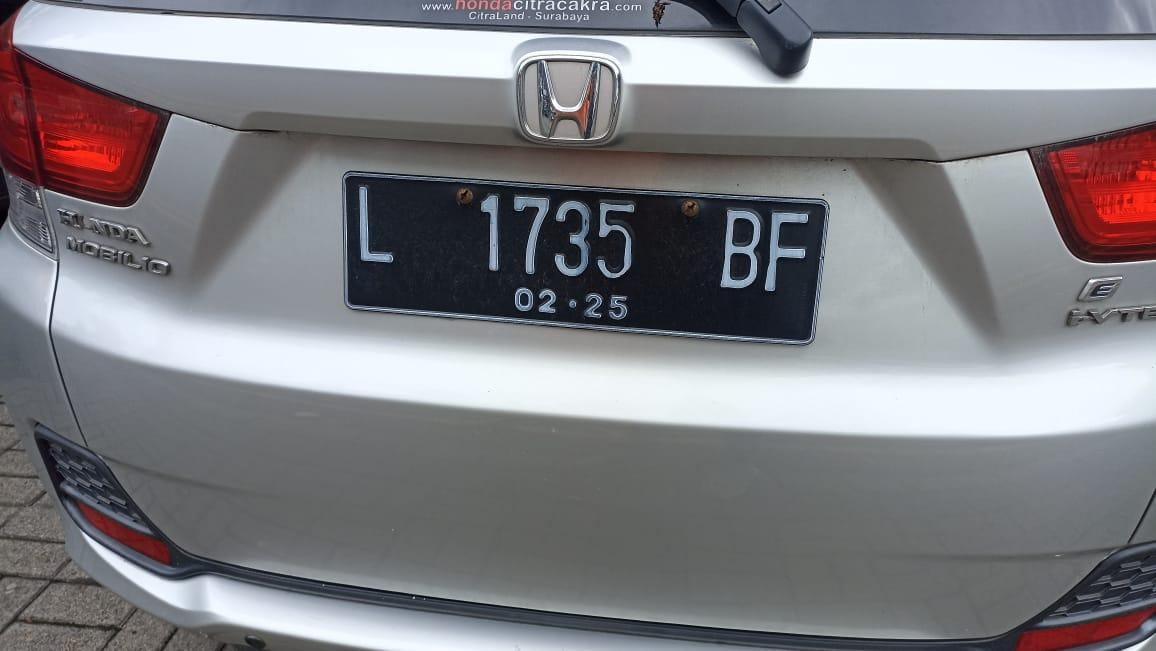plat: (345, 172, 829, 343)
